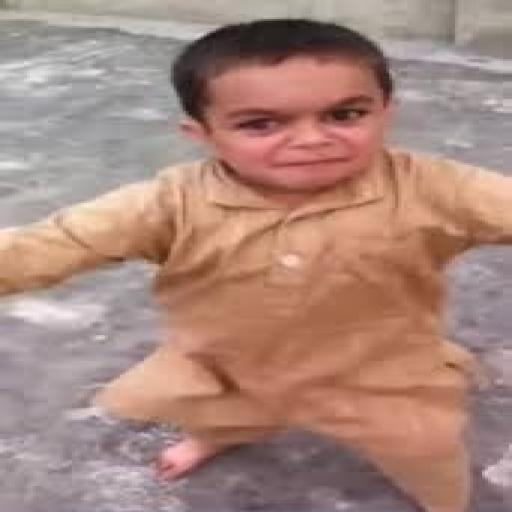dancing: (0, 16, 509, 510)
